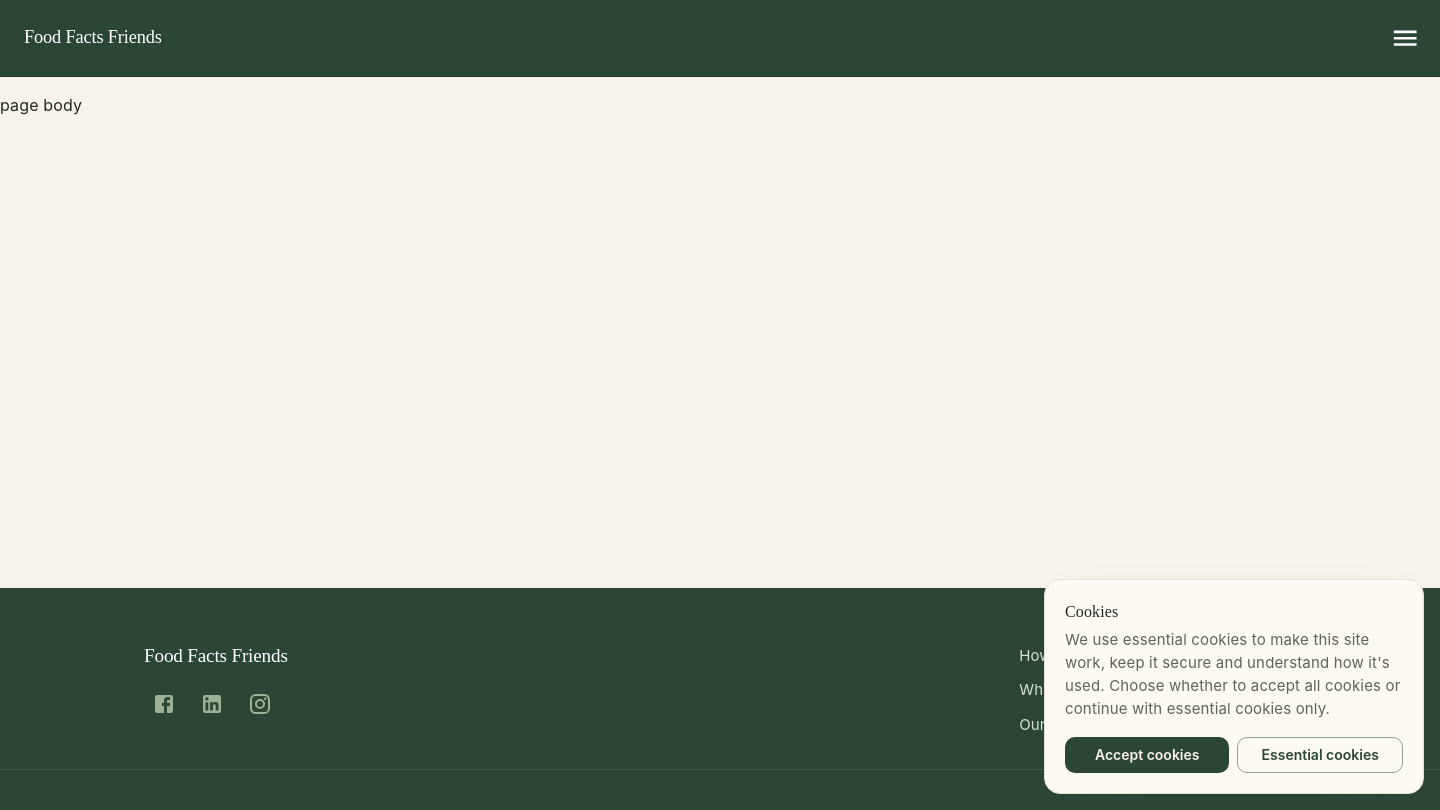
Scenario: MainLayout — mobile menu › opens the menu overlay from the navbar button
This screenshot has width=1440, height=810.
Expected: the text "page body" is shown, [0,95,82,115]
Click the button named "menu" at (1405, 38), box [1382,15,1428,61]
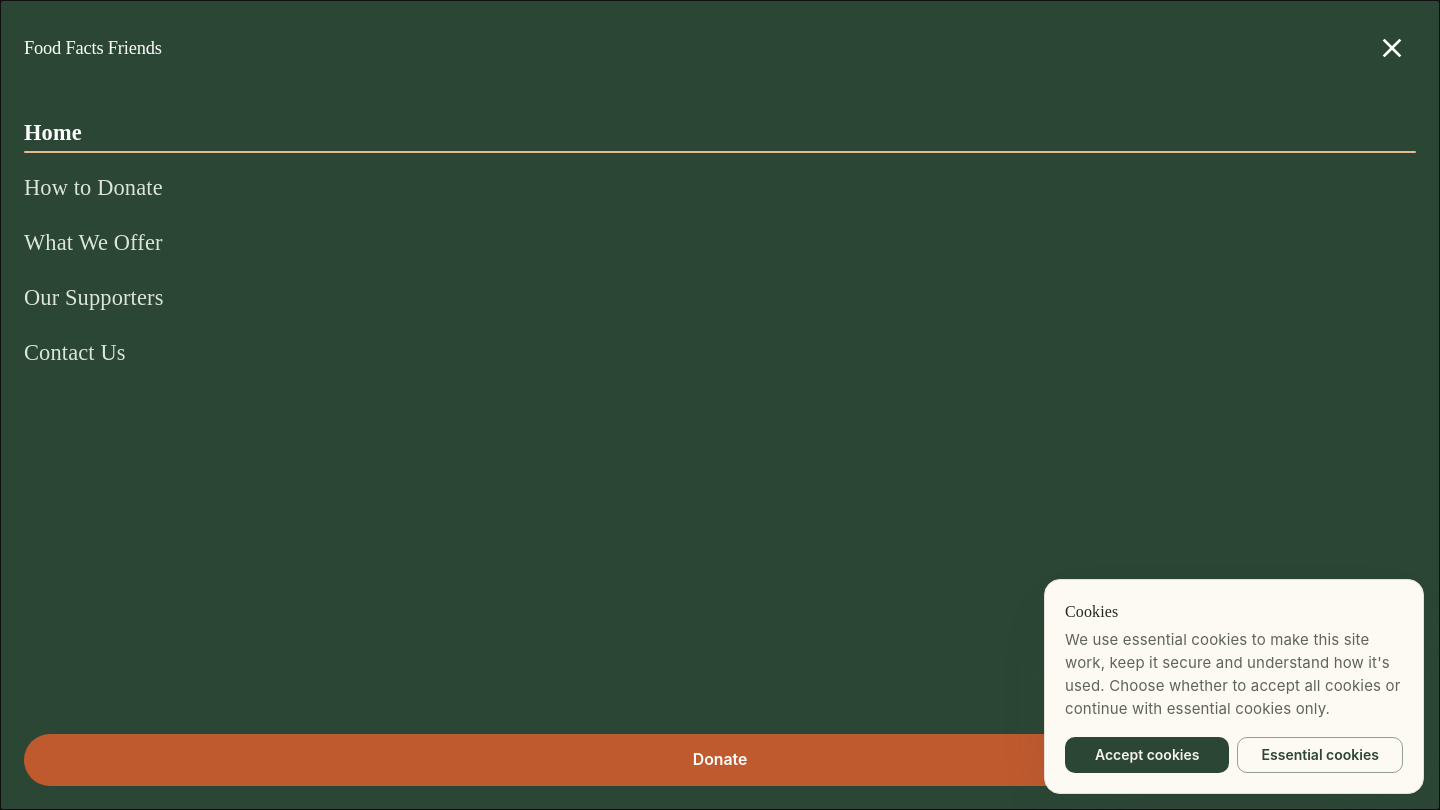
Now the link "Our Supporters" is shown, box [24,285,164,310]
